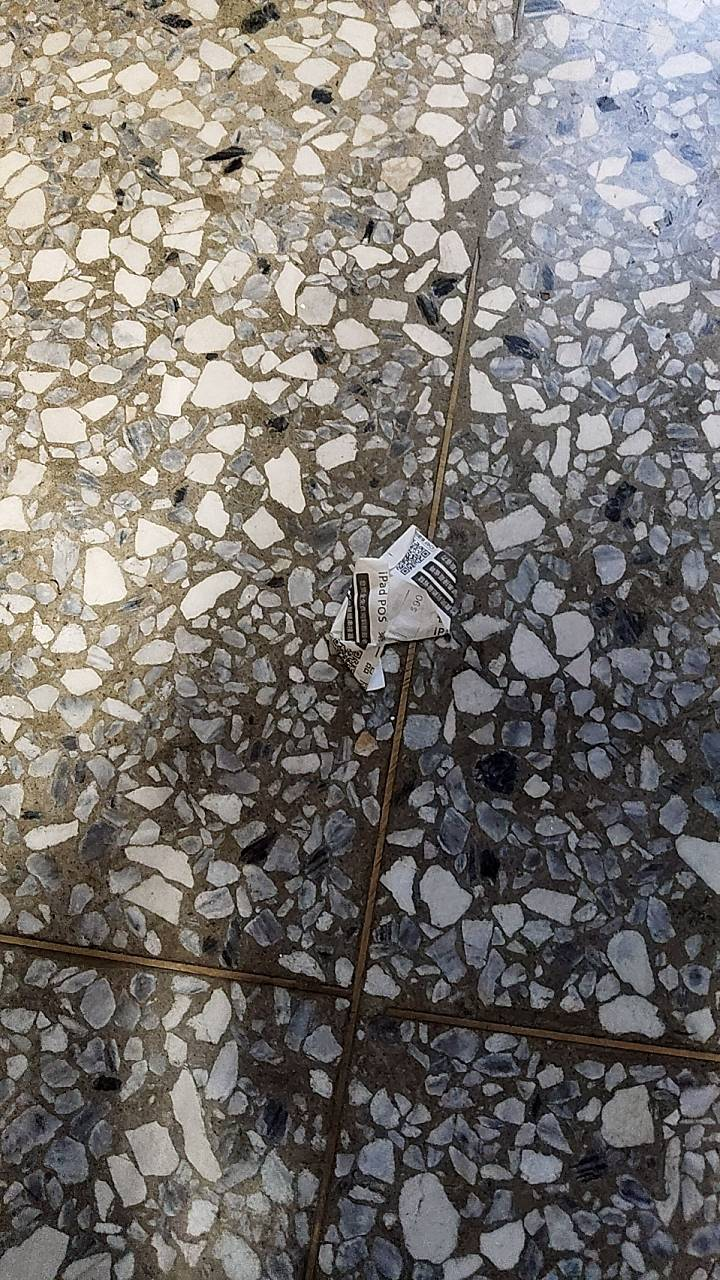paper: (305, 500, 495, 712)
